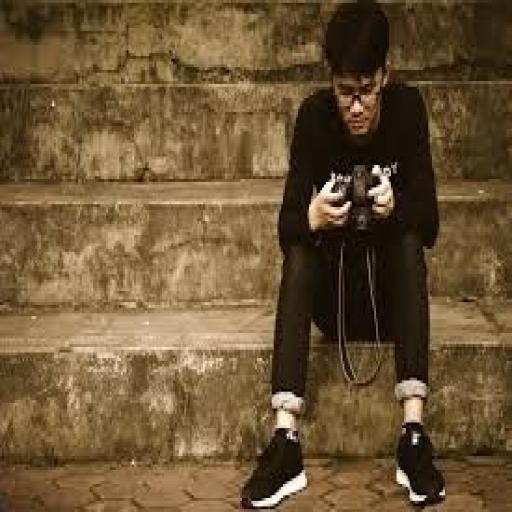sitting: (236, 3, 448, 506)
